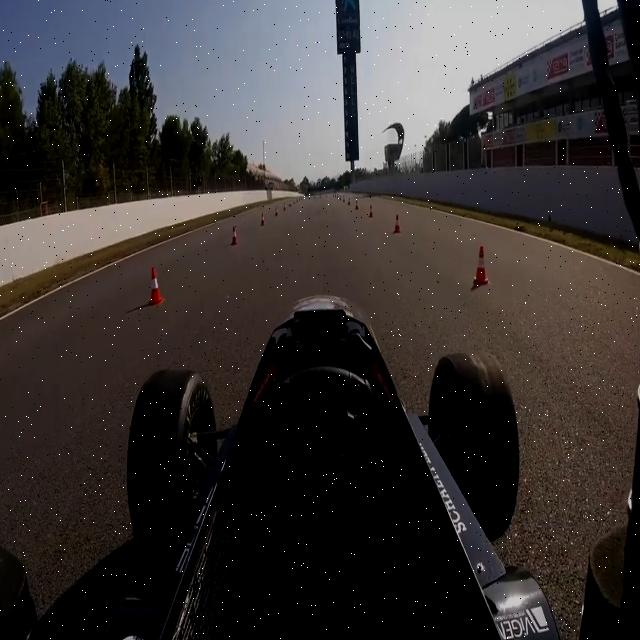orange_cone: (472, 245, 490, 285), (148, 266, 164, 308), (230, 225, 239, 247), (394, 214, 402, 234), (368, 204, 374, 220), (260, 211, 266, 226), (273, 204, 279, 218), (354, 198, 358, 212), (283, 200, 286, 212), (348, 196, 350, 206)
